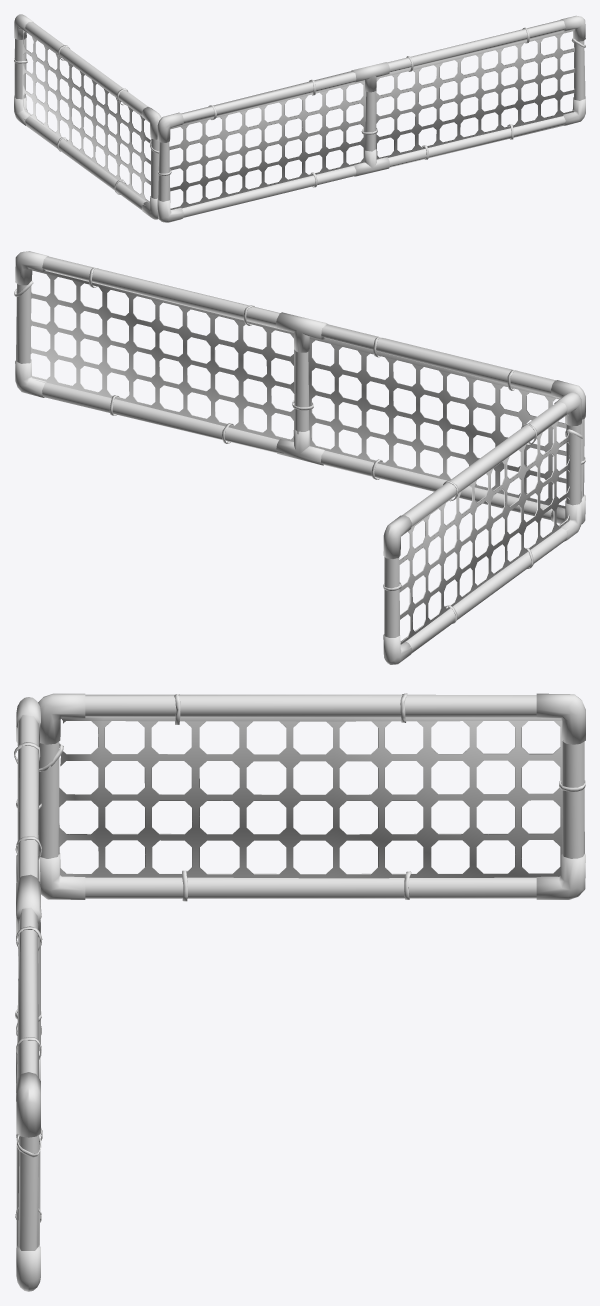
Rendered from ChickCorral_01.fbx.
The picture shows the model from 3 angles, top to bottom: view 1: azimuth 30°, elevation 25°; view 2: azimuth 150°, elevation 25°; view 3: azimuth 270°, elevation 25°; orthographic projection. The views are drawn at different scales.
Parts seen in each view (by area): view 1: chickCorral_longNet_v1, chickCorral_longFrame_v1, chickCorral_shortFrame_v1, chickCorral_shortNet_v1, chickCorral_longBands_v1, chickCorral_shortBands_v1; view 2: chickCorral_longNet_v1, chickCorral_longFrame_v1, chickCorral_shortFrame_v1, chickCorral_shortNet_v1, chickCorral_longBands_v1; view 3: chickCorral_shortFrame_v1, chickCorral_shortNet_v1, chickCorral_longFrame_v1, chickCorral_longBands_v1, chickCorral_shortBands_v1.
Boxes of the visible parts, <box> form: chickCorral_longNet_v1: <box>169,29,575,209</box>; chickCorral_longFrame_v1: <box>157,15,585,222</box>; chickCorral_shortFrame_v1: <box>14,14,161,219</box>; chickCorral_shortNet_v1: <box>22,30,150,203</box>; chickCorral_longBands_v1: <box>157,27,585,187</box>; chickCorral_shortBands_v1: <box>14,45,159,194</box>; chickCorral_longNet_v1: <box>31,269,566,508</box>; chickCorral_longFrame_v1: <box>15,251,585,524</box>; chickCorral_shortFrame_v1: <box>383,392,581,664</box>; chickCorral_shortNet_v1: <box>399,413,570,644</box>; chickCorral_longBands_v1: <box>14,268,585,479</box>; chickCorral_shortFrame_v1: <box>38,693,585,899</box>; chickCorral_shortNet_v1: <box>58,717,562,878</box>; chickCorral_longFrame_v1: <box>16,697,41,1291</box>; chickCorral_longBands_v1: <box>14,742,42,1222</box>; chickCorral_shortBands_v1: <box>39,693,585,901</box>.
Bounding box in the file's own units: 8.32 × 1.98 × 4.98.
